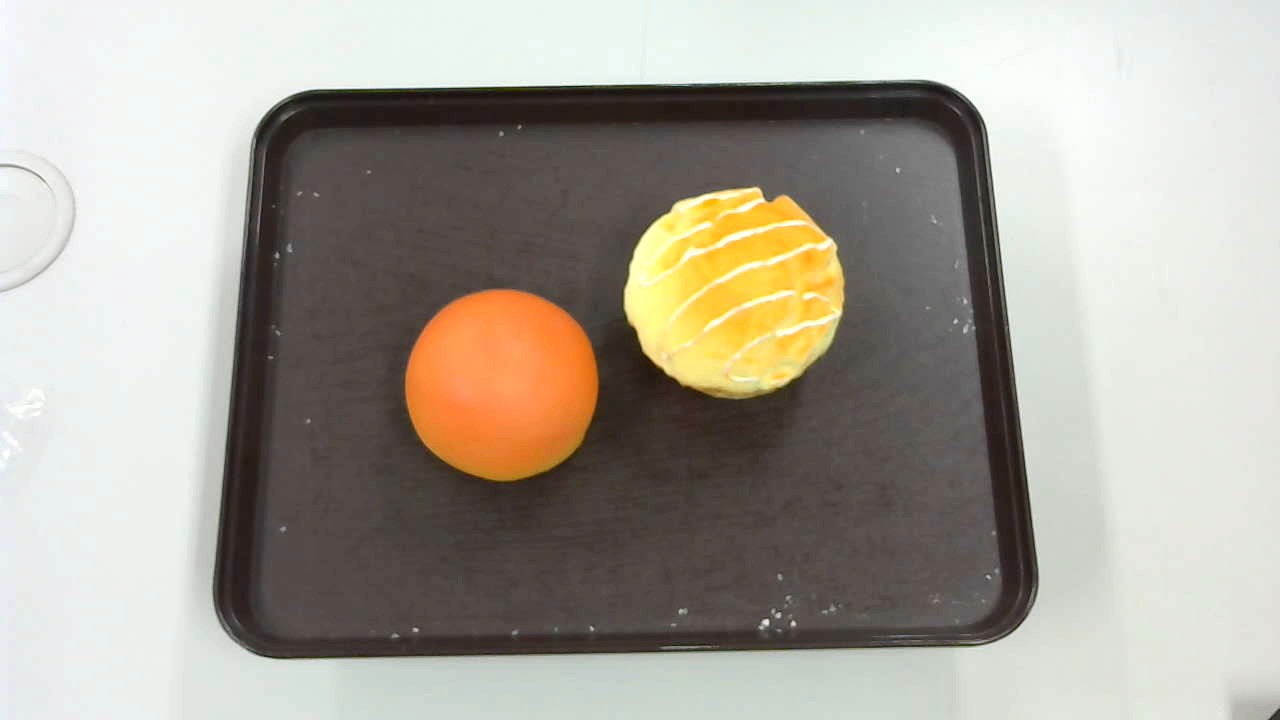bun: (405, 288, 599, 481)
cupcake: (623, 185, 846, 400)
